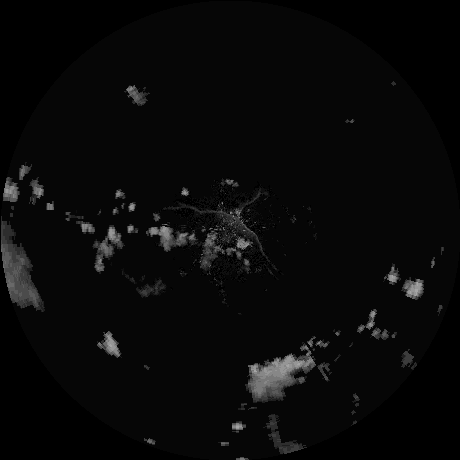frontgust: (186, 205, 264, 254)
